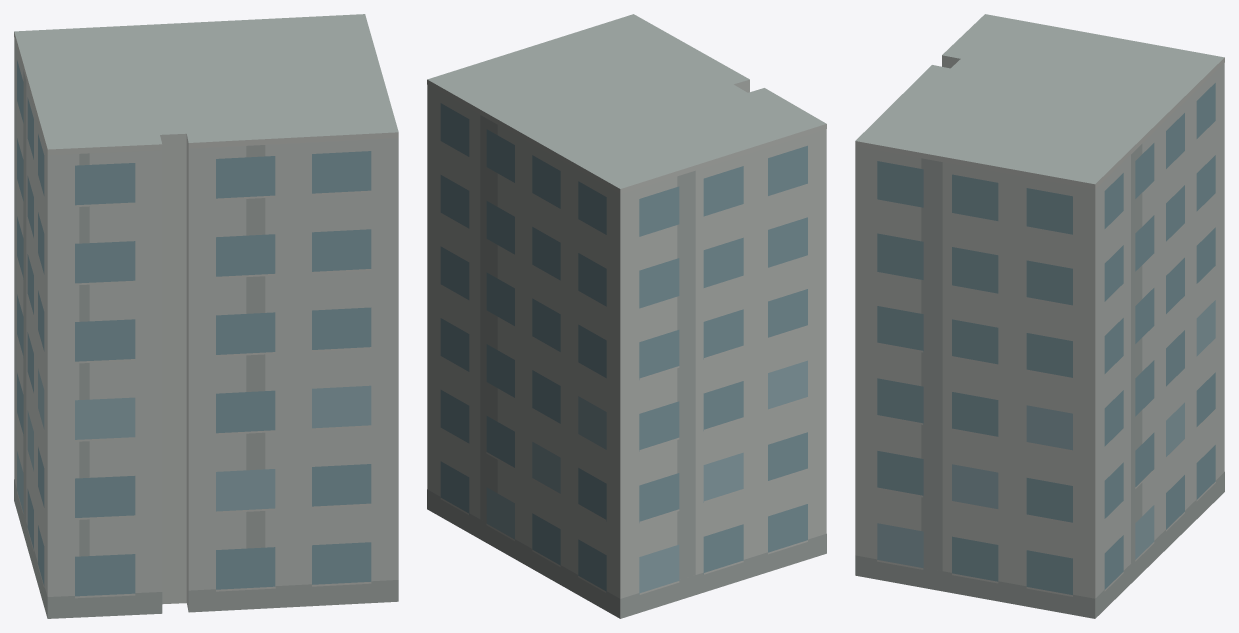
Rendered from survey-upis-33004183.glb.
3 renders of one model, left to right at view 1: azimuth 30°, elevation 25°; view 2: azimuth 150°, elevation 25°; view 3: azimuth 270°, elevation 25°, orthographic. The views are drawn at different scales.
Parts seen in each view (by area): view 1: survey-upis-33004183.tmp; view 2: survey-upis-33004183.tmp; view 3: survey-upis-33004183.tmp.
Part boxes in pixels (x1,y1,x2,y2): survey-upis-33004183.tmp: [14, 14, 398, 618]; survey-upis-33004183.tmp: [427, 14, 826, 618]; survey-upis-33004183.tmp: [855, 14, 1224, 618].
Bounding box in the file's own units: 16.63 × 19.77 × 15.25.
